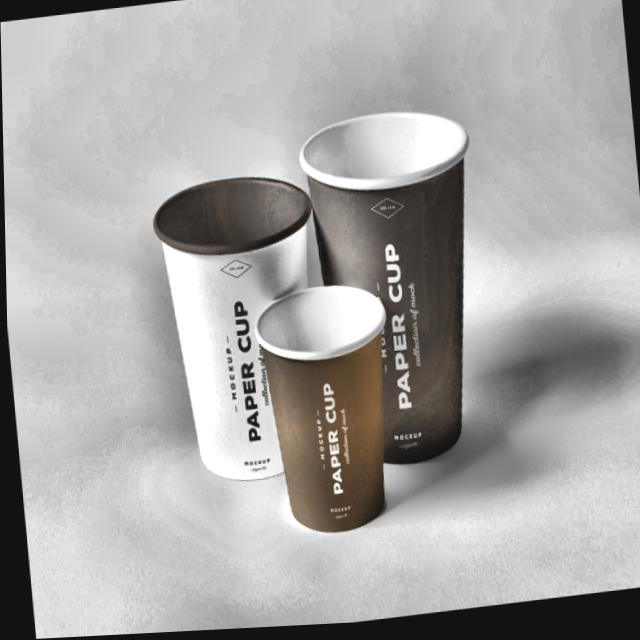Cup: (295, 97, 498, 490), (140, 150, 340, 501), (246, 269, 404, 541)
